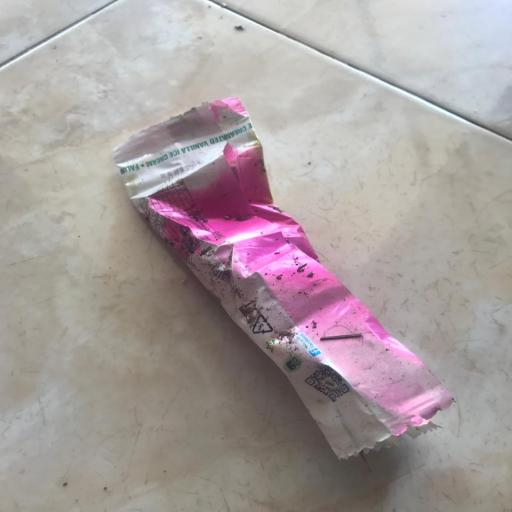waste: (100, 93, 456, 461)
